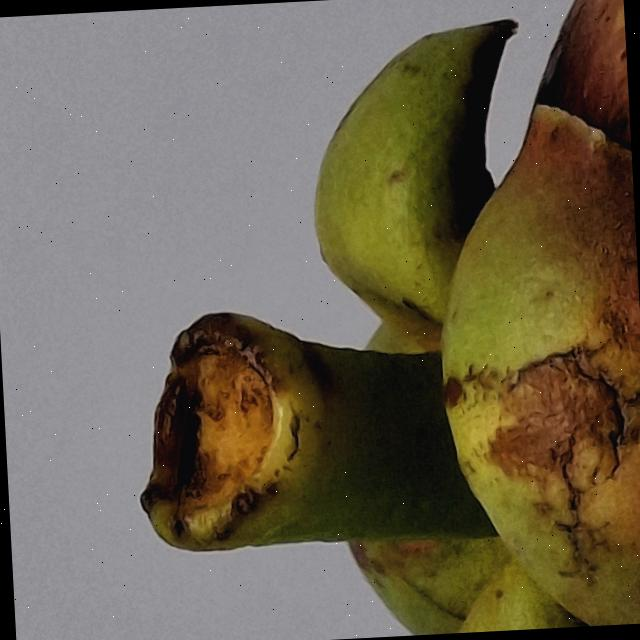mangosteen: (53, 0, 640, 640)
